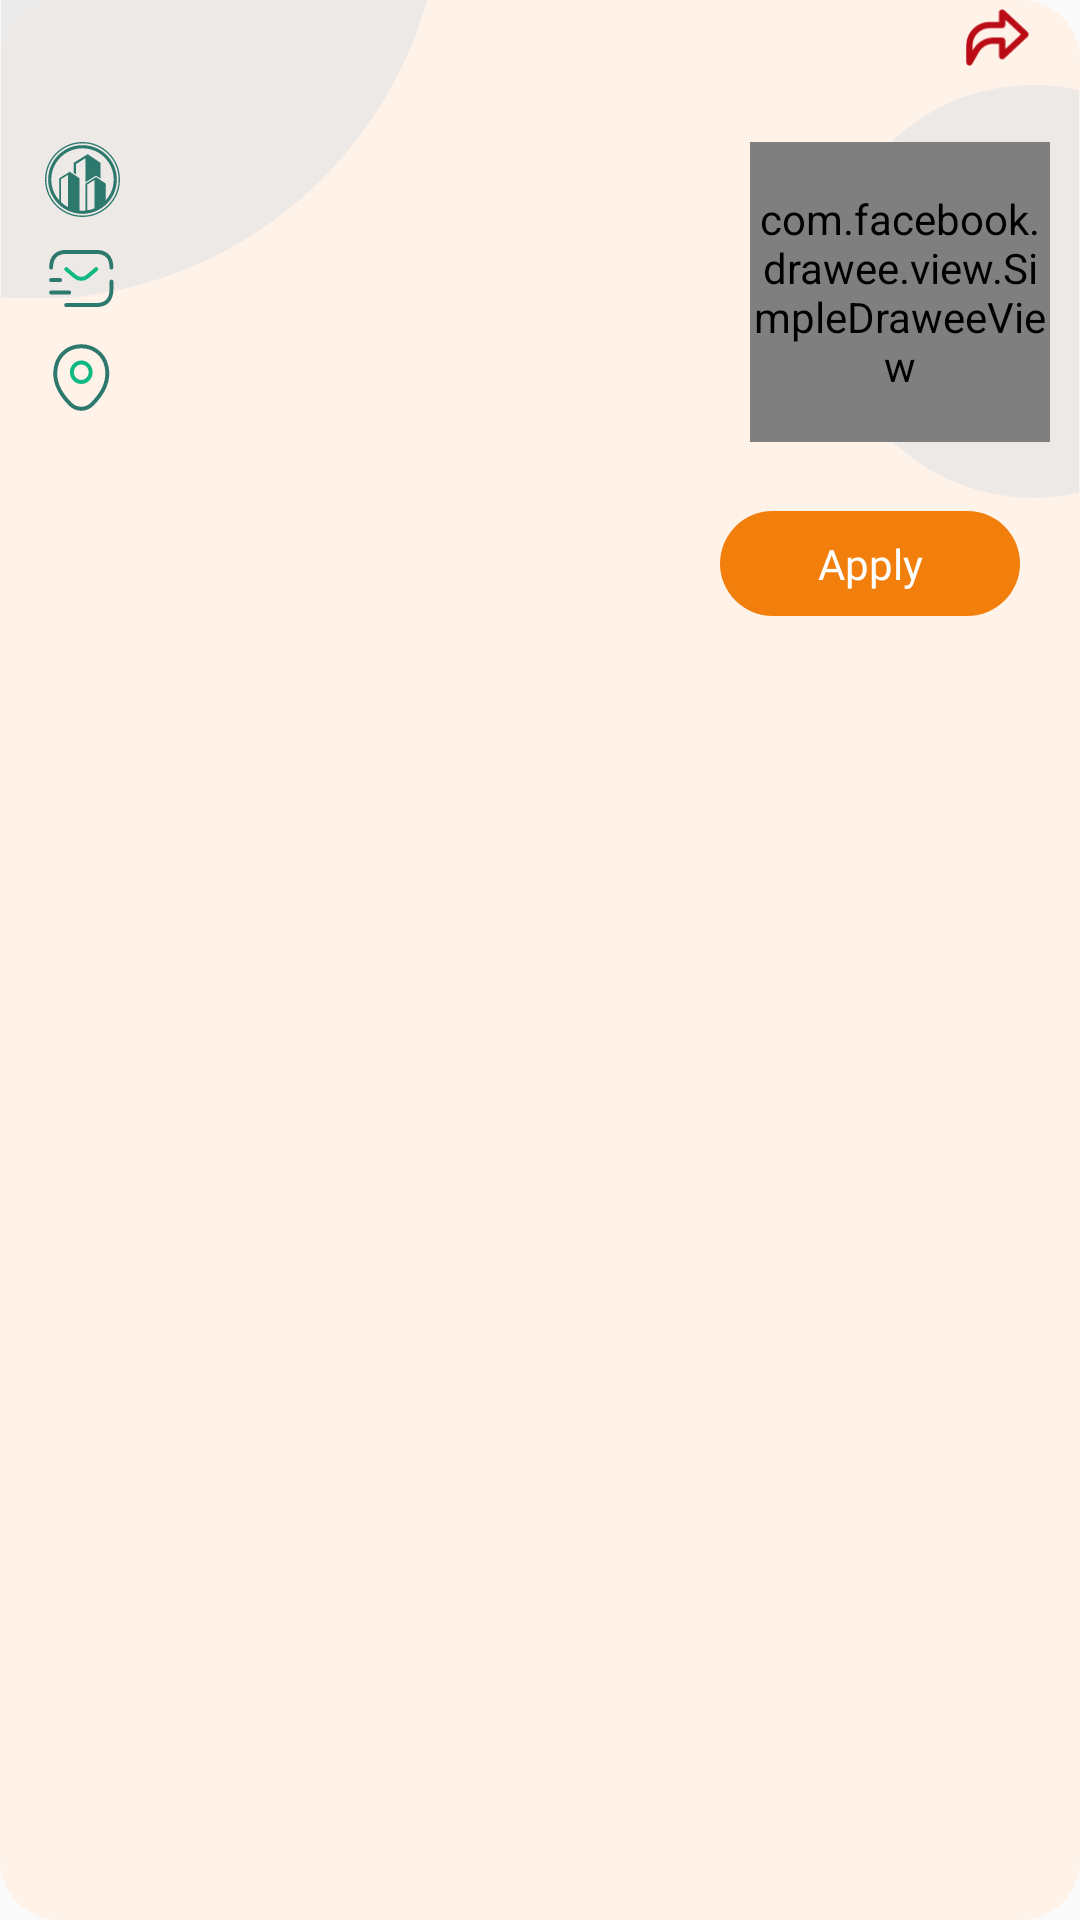

Icon bounding boxes for this 1080x1920 phone screenshot, format (x1, y1, x2, y2):
share: (966, 9, 1029, 66)
